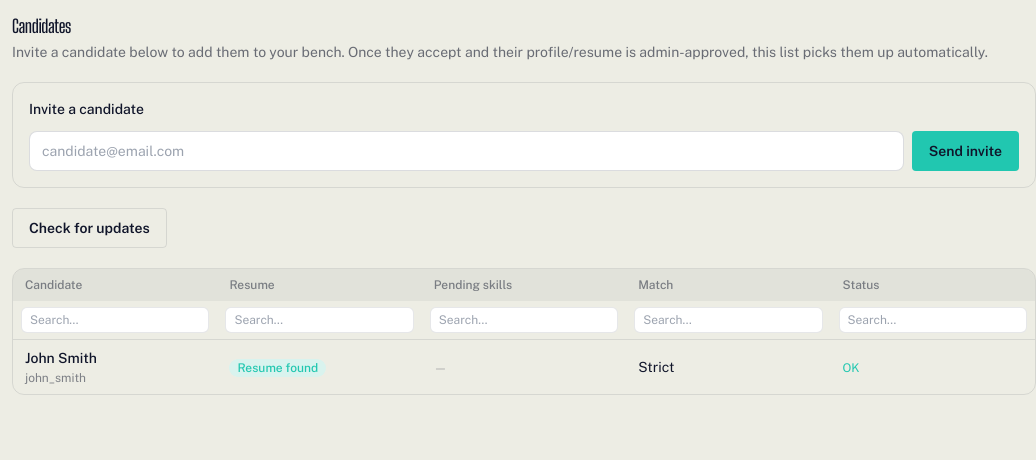
Test: Candidates invite form › shows the server error message when the invite fails
Expected: the text "John Smith" is shown, [25,350,97,366]
Step 1. Type "dup@example.com" into the field with placeholder "candidate@email.com" → (466, 151), box [29,131,904,171]
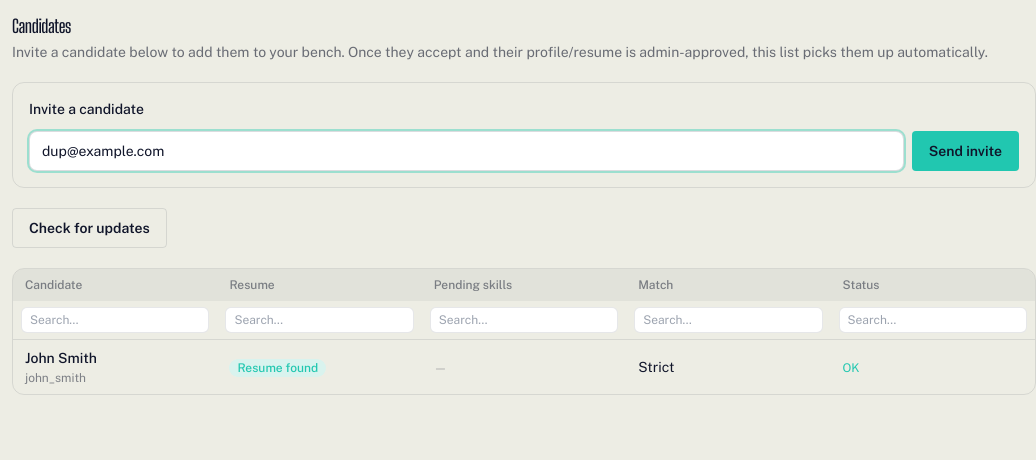
Step 2. Click the button "Send invite" → (965, 151), box [912,131,1019,171]
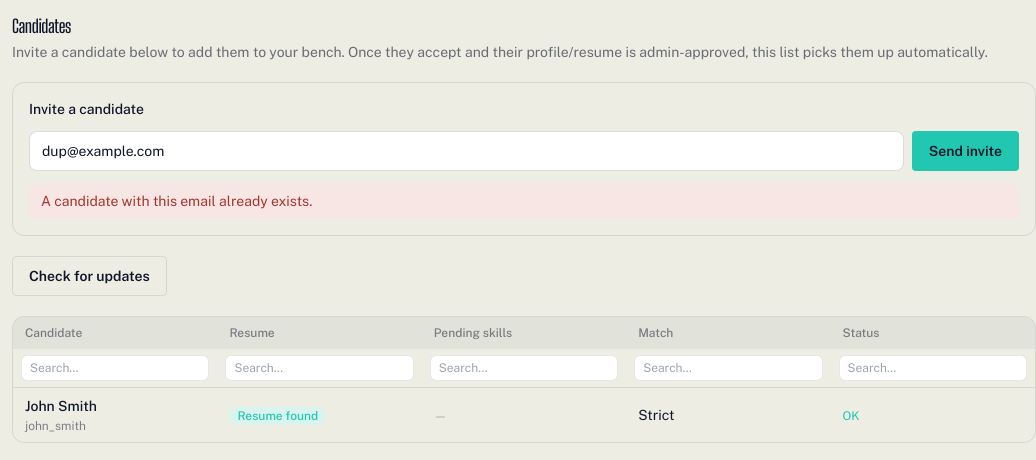
Expected: the text "A candidate with this email already exists." is shown, [29,183,1019,219]
